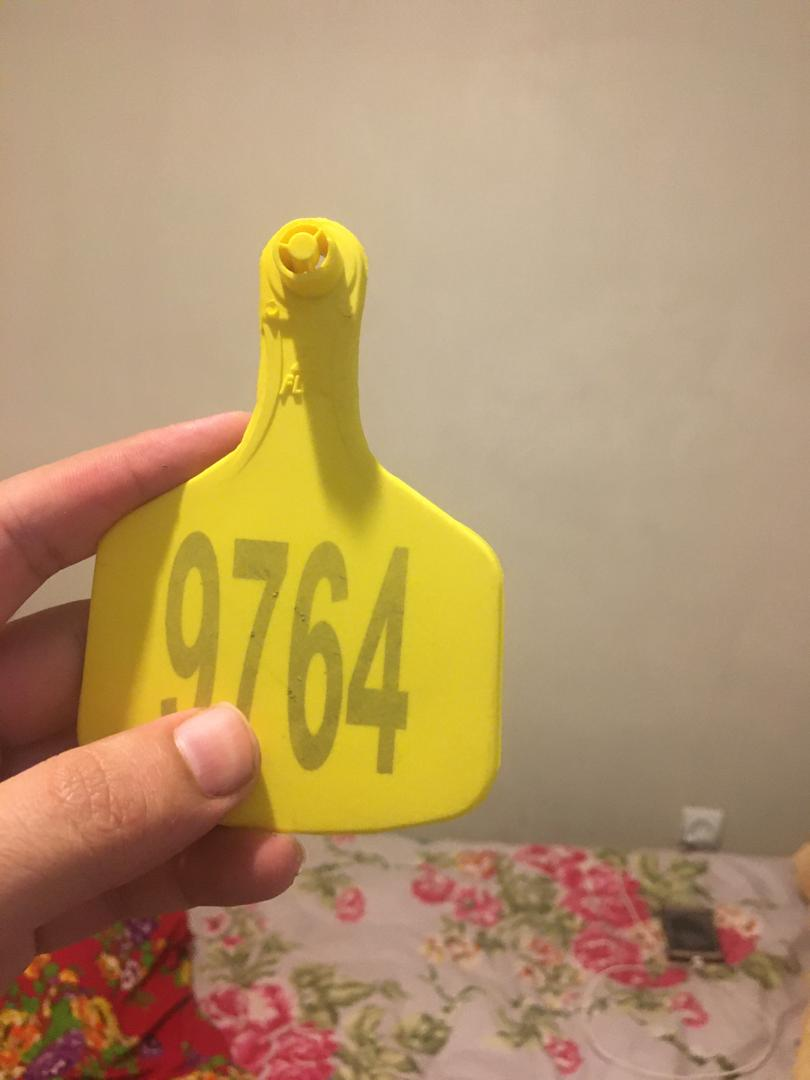digit: (160, 531, 416, 777)
